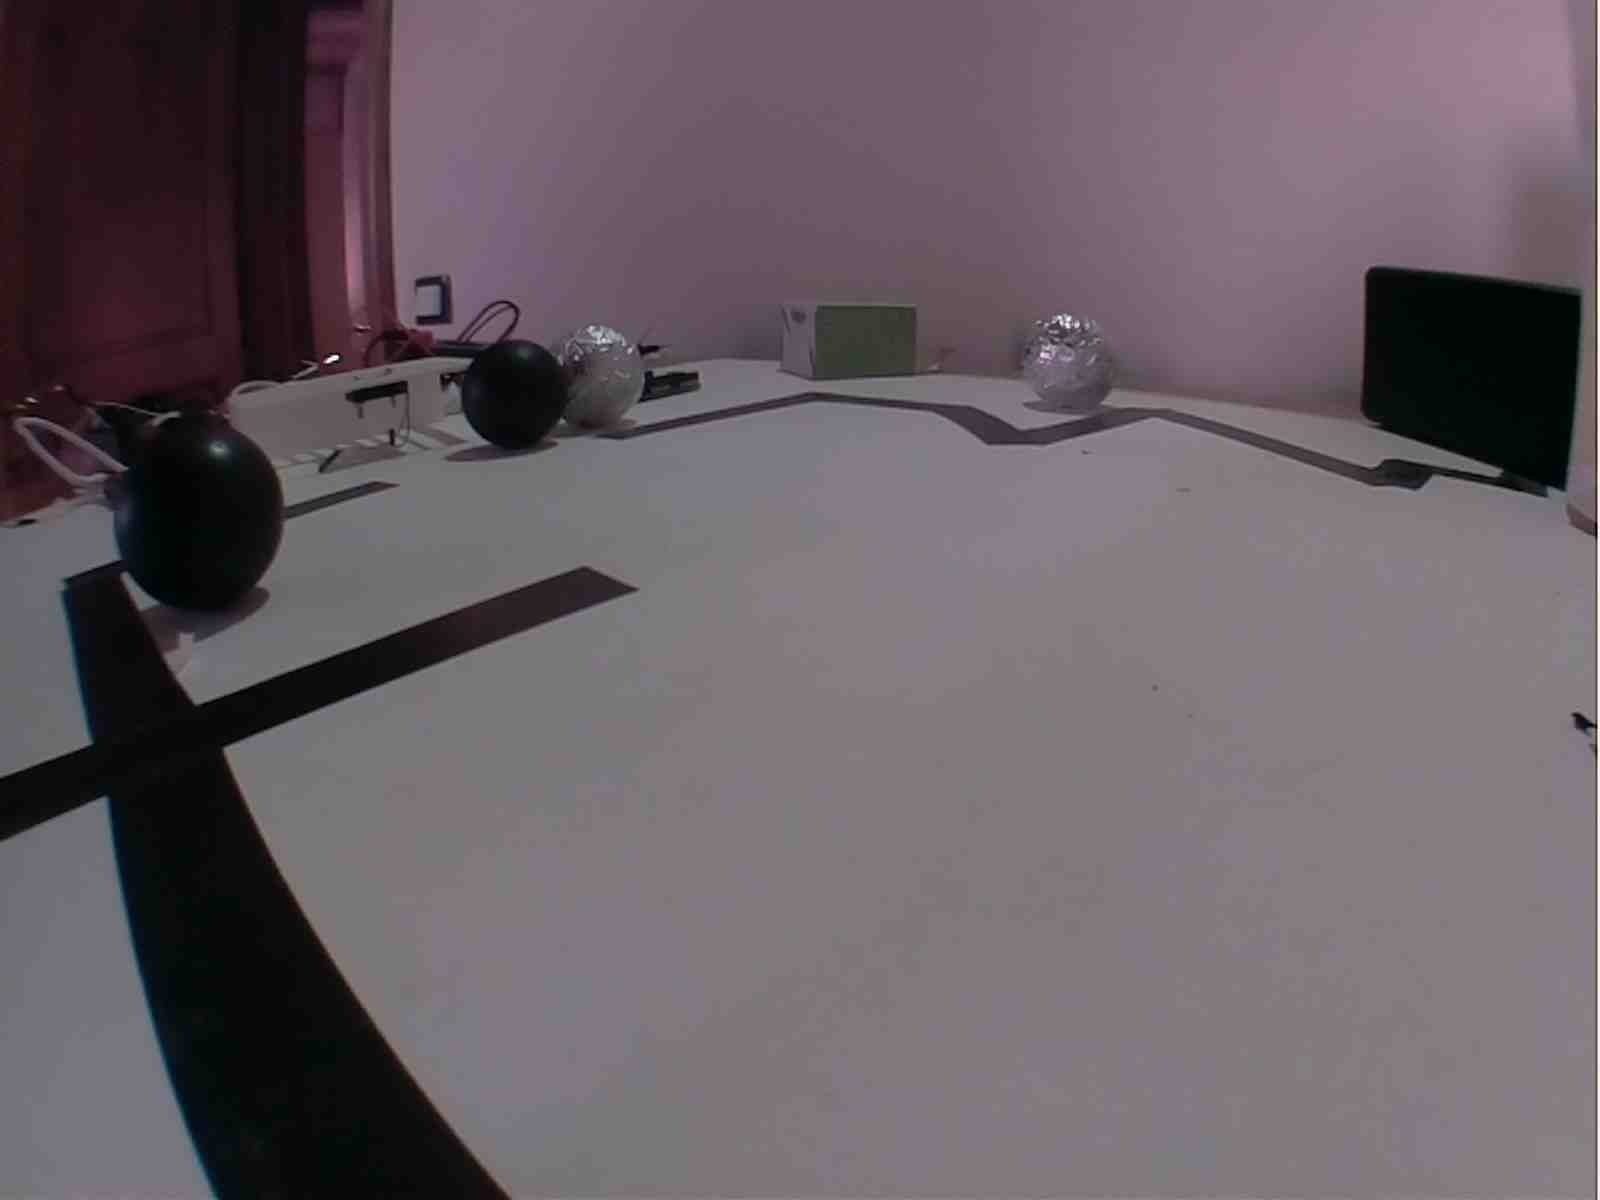bianca: (542, 321, 650, 436), (1015, 309, 1129, 416)
nera: (107, 405, 294, 620), (454, 333, 571, 458)
